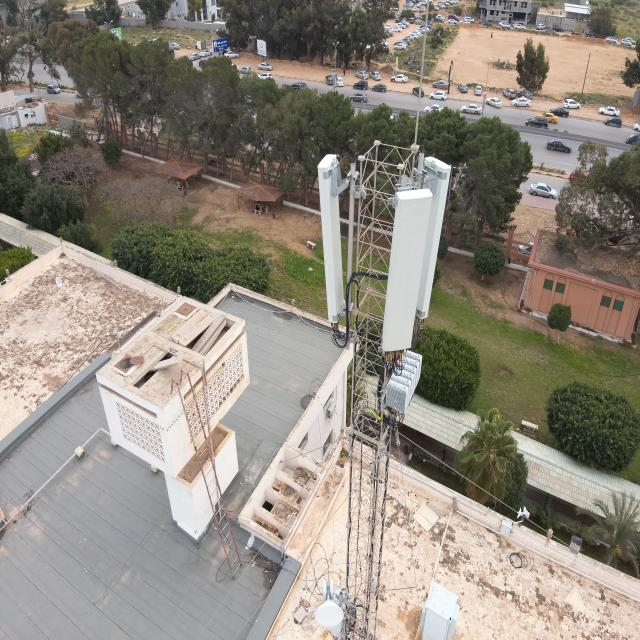antenna: (381, 185, 435, 358), (410, 154, 455, 320), (314, 149, 348, 332)
lighnig-rad: (410, 0, 429, 147)
microware-dish: (314, 578, 344, 628)
power-box: (324, 586, 354, 637)
radio-unit: (380, 346, 428, 414)
